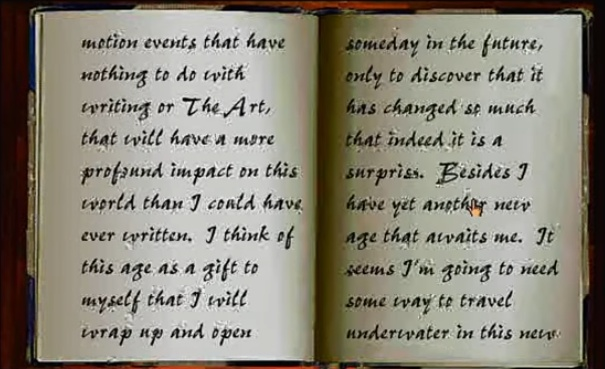Pointer: (464, 195, 487, 220)
